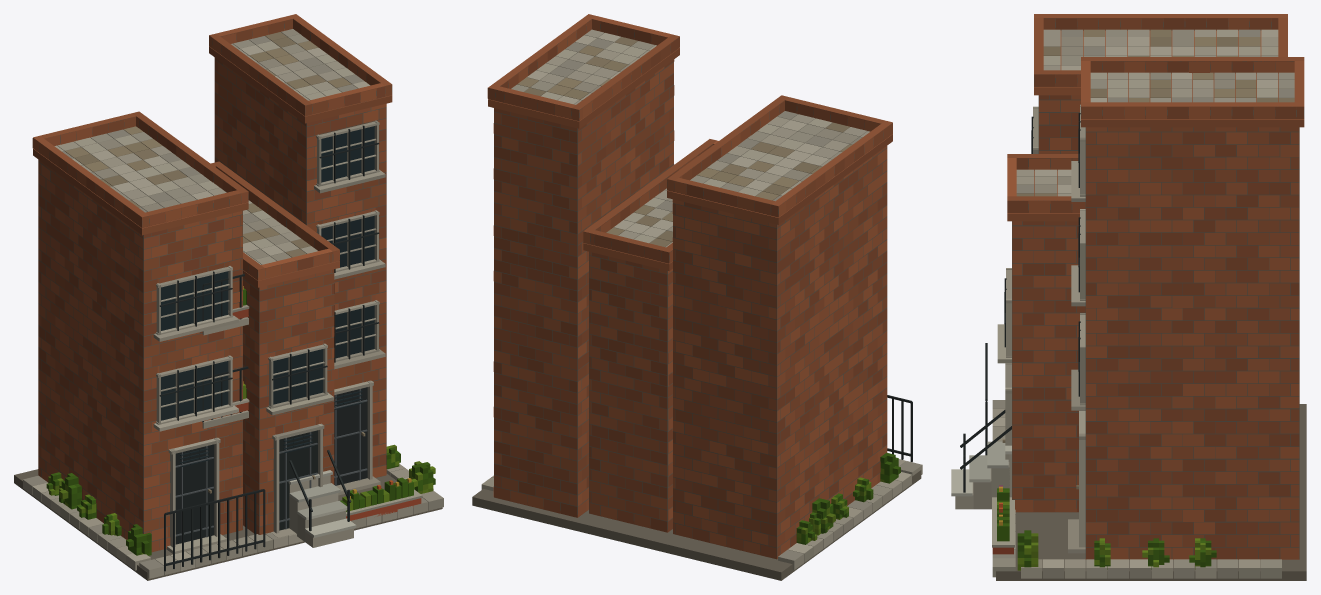
Rendered from SM_Mapa_077.fbx.
3 renders of one model, left to right at view 1: azimuth 30°, elevation 25°; view 2: azimuth 150°, elevation 25°; view 3: azimuth 270°, elevation 25°, orthographic. The views are drawn at different scales.
Visible parts, largest first — view 1: SM_Mapa_077; view 2: SM_Mapa_077; view 3: SM_Mapa_077.
Boxes of the visible parts, box(x1,y1,x2,y2) form: SM_Mapa_077: box(14, 14, 443, 580); SM_Mapa_077: box(472, 14, 922, 580); SM_Mapa_077: box(951, 14, 1306, 580).
Bounding box in the file's own units: 8 × 7.02 × 10.16.
